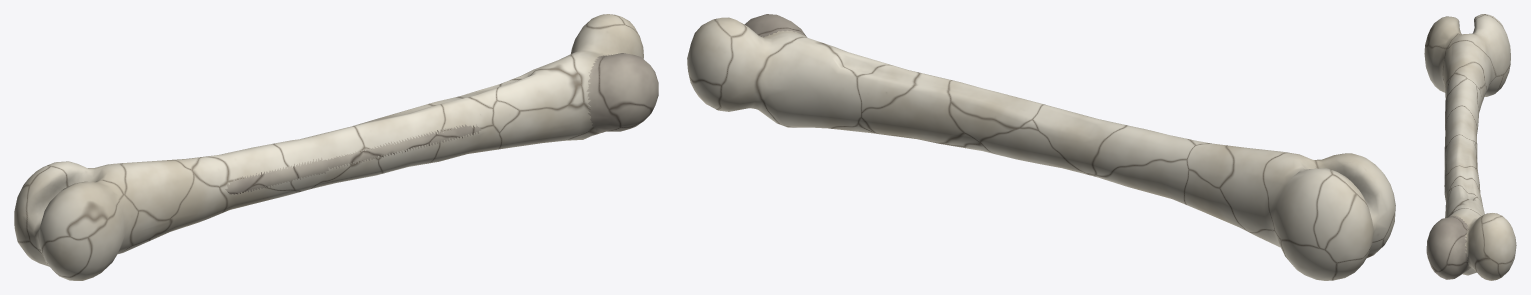
File: hueso_suelto_a.fbx
3 renders of one model, left to right at view 1: azimuth 30°, elevation 25°; view 2: azimuth 150°, elevation 25°; view 3: azimuth 270°, elevation 25°, orthographic. The views are drawn at different scales.
Parts seen in each view (by area): view 1: femur; view 2: femur; view 3: femur.
Boxes of the visible parts, x1,y1,x2,y2 form: femur: (14, 14, 658, 280); femur: (687, 14, 1395, 280); femur: (1424, 14, 1516, 280).
Size of the model in its own units: 3 by 0.4985 by 0.5019.
1 material, 1 textured.
